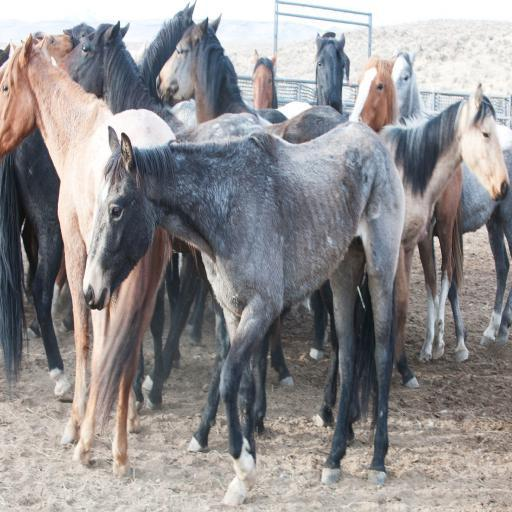Horse: (0, 0, 512, 506)
